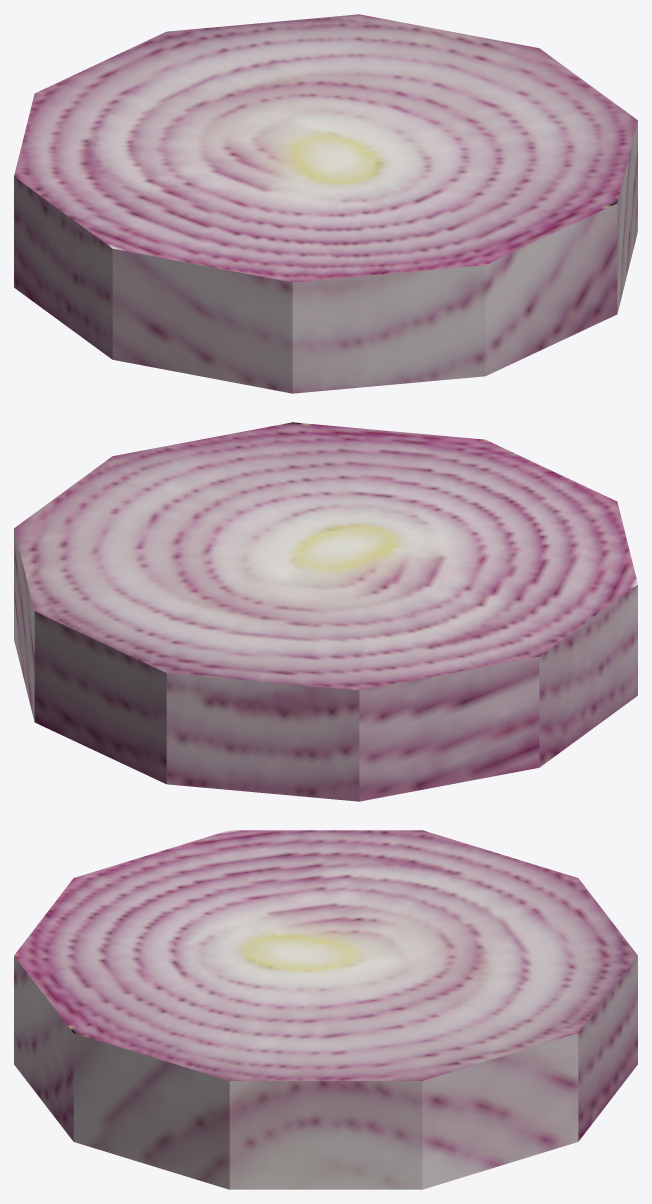
The model's file is onion.glb.
The picture shows the model from 3 angles, top to bottom: view 1: azimuth 30°, elevation 25°; view 2: azimuth 150°, elevation 25°; view 3: azimuth 270°, elevation 25°; orthographic projection. The views are drawn at different scales.
Parts seen in each view (by area): view 1: Circle; view 2: Circle; view 3: Circle.
Part boxes in pixels (x1,y1,x2,y2): Circle: (14, 14, 637, 393); Circle: (14, 422, 637, 801); Circle: (14, 830, 637, 1189).
Bounding box in the file's own units: 1.9 × 0.3848 × 2.
1 material, 1 textured.
